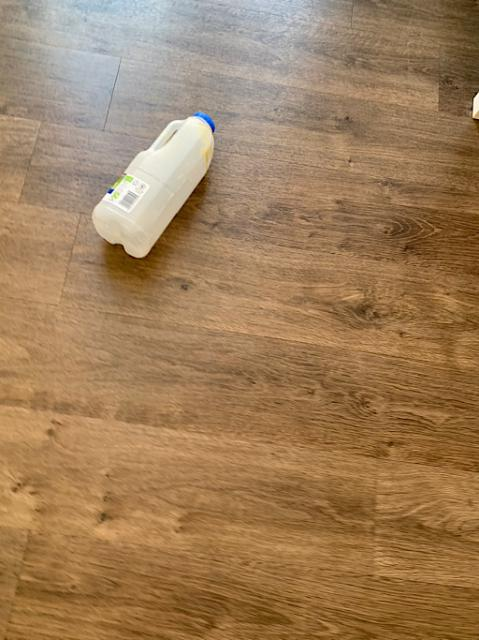plastic: (91, 112, 213, 256)
